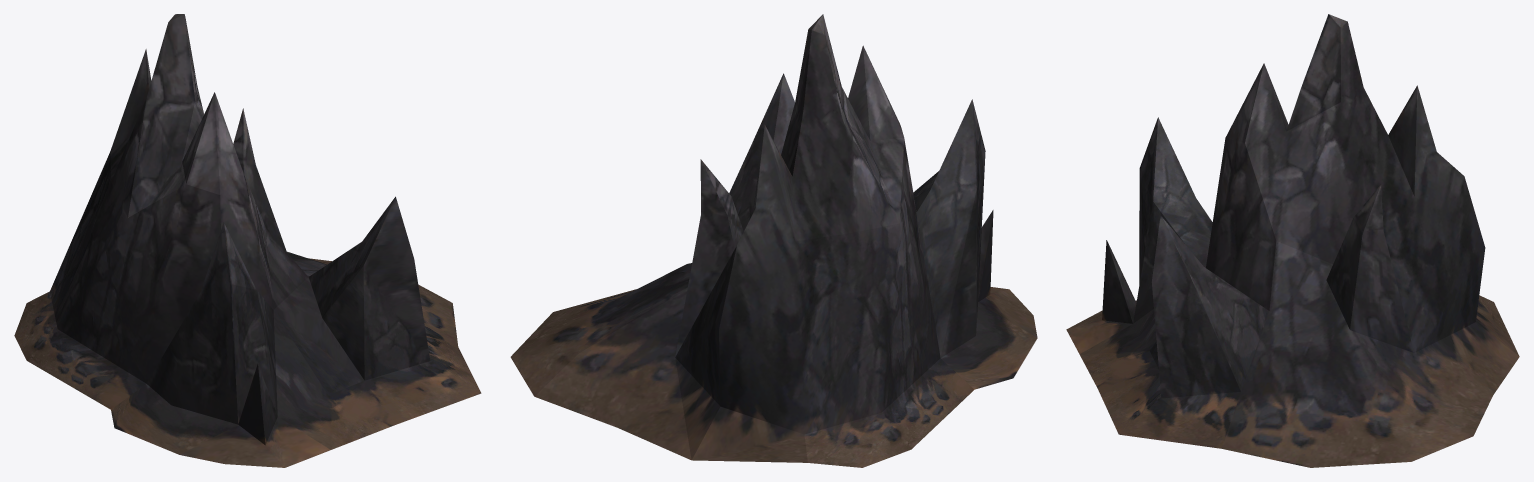
Rendered from ruisi_guaishi01.FBX.
The picture shows the model from 3 angles, left to right: view 1: azimuth 30°, elevation 25°; view 2: azimuth 150°, elevation 25°; view 3: azimuth 270°, elevation 25°; orthographic projection. The views are drawn at different scales.
Parts seen in each view (by area): view 1: ruisi_guaishi01; view 2: ruisi_guaishi01; view 3: ruisi_guaishi01.
Boxes of the visible parts, <box> form: ruisi_guaishi01: <box>14,14,481,467</box>; ruisi_guaishi01: <box>510,14,1037,467</box>; ruisi_guaishi01: <box>1066,14,1519,467</box>.
Size of the model in its own units: 57.26 by 49.49 by 61.17.
